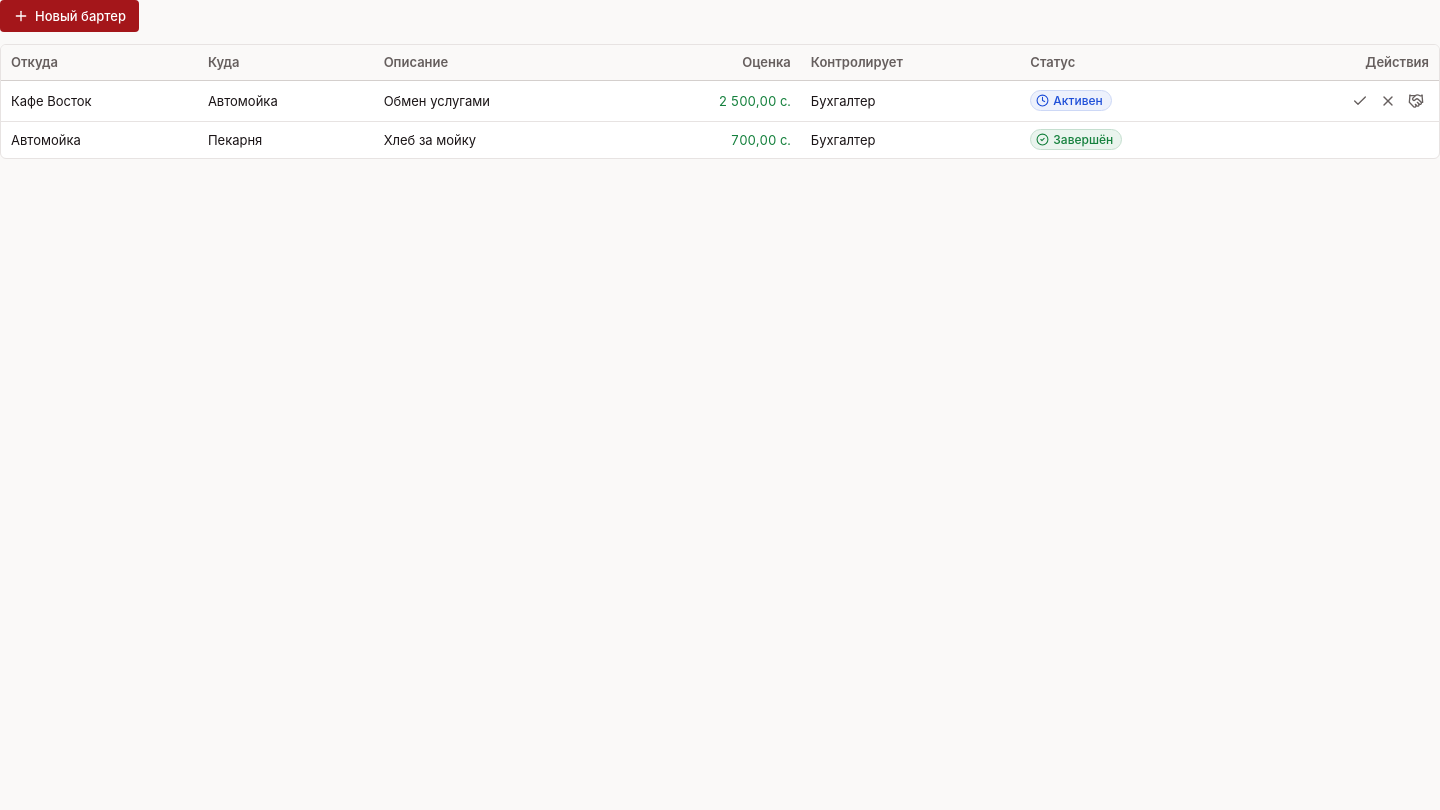
BarterSection › закрытие долга бартером: в списке только долги той же пары, отправляет close-debt
Step 1. Click the button named "Закрыть долг бартером" → (1416, 101), box [1403, 88, 1429, 114]
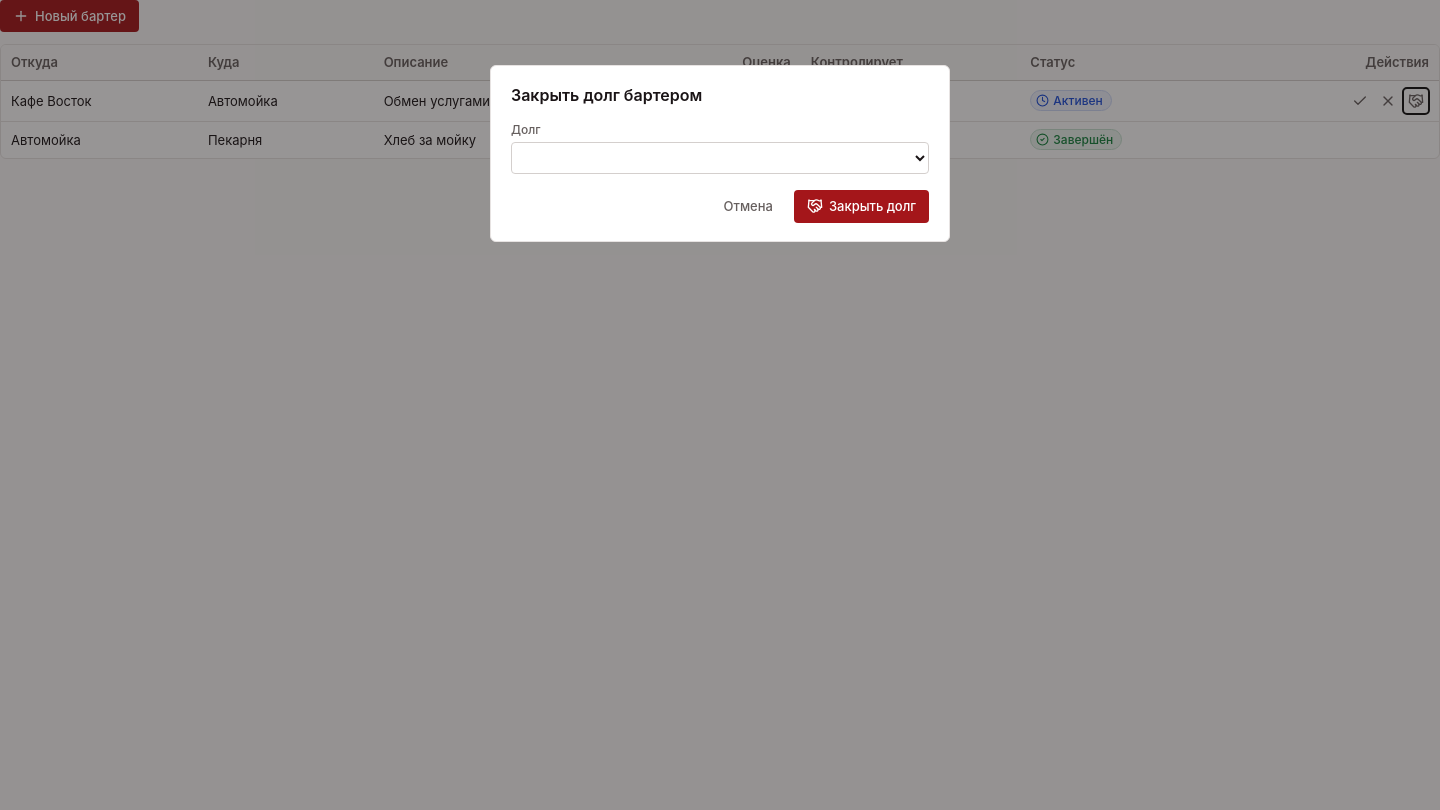
Step 2. Select "Автомойка — Кафе Восток · 300,00 с." in the dropdown labelled "Долг" → (720, 158), box [511, 142, 929, 174]
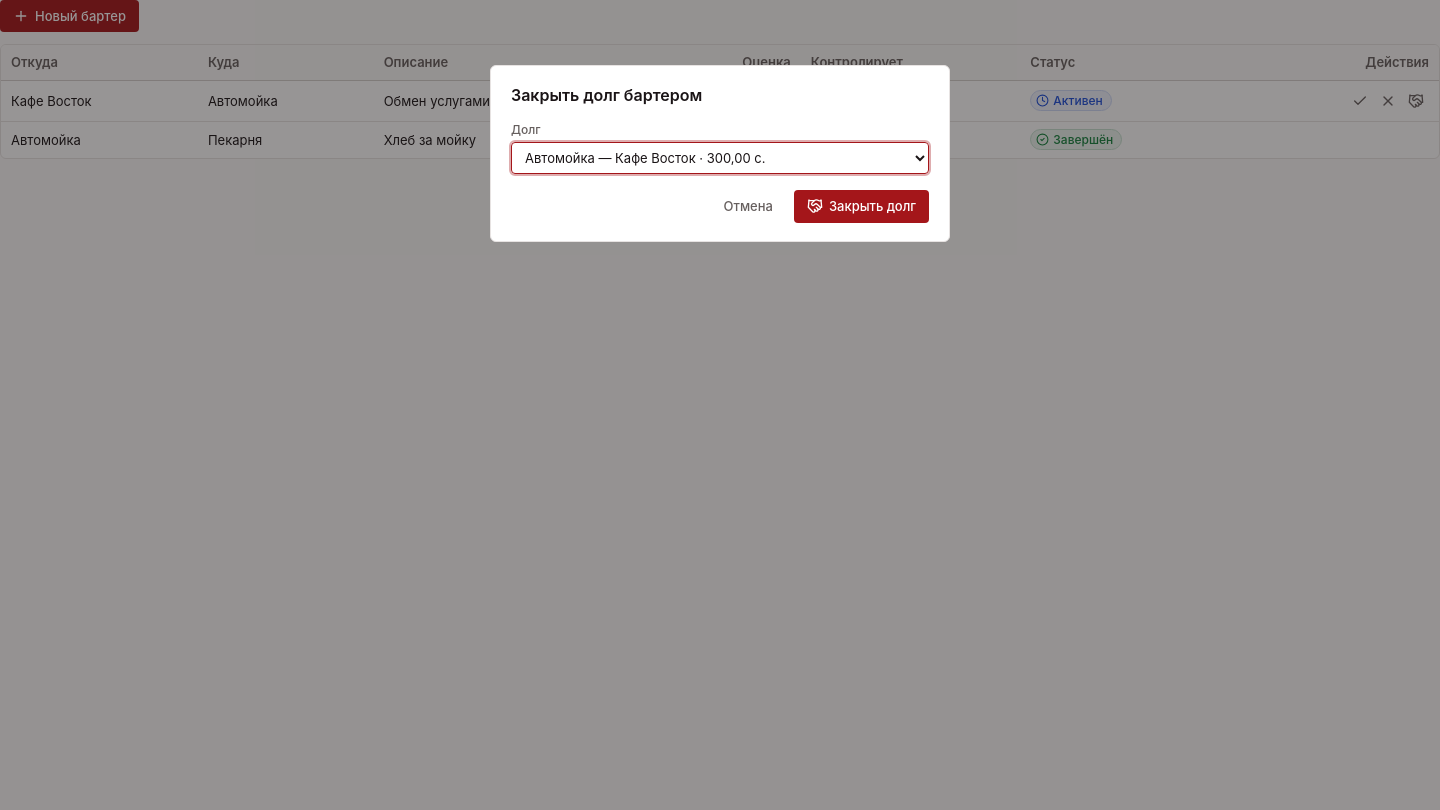
Step 3. Click the button "Закрыть долг" → (861, 206), box [794, 190, 929, 223]
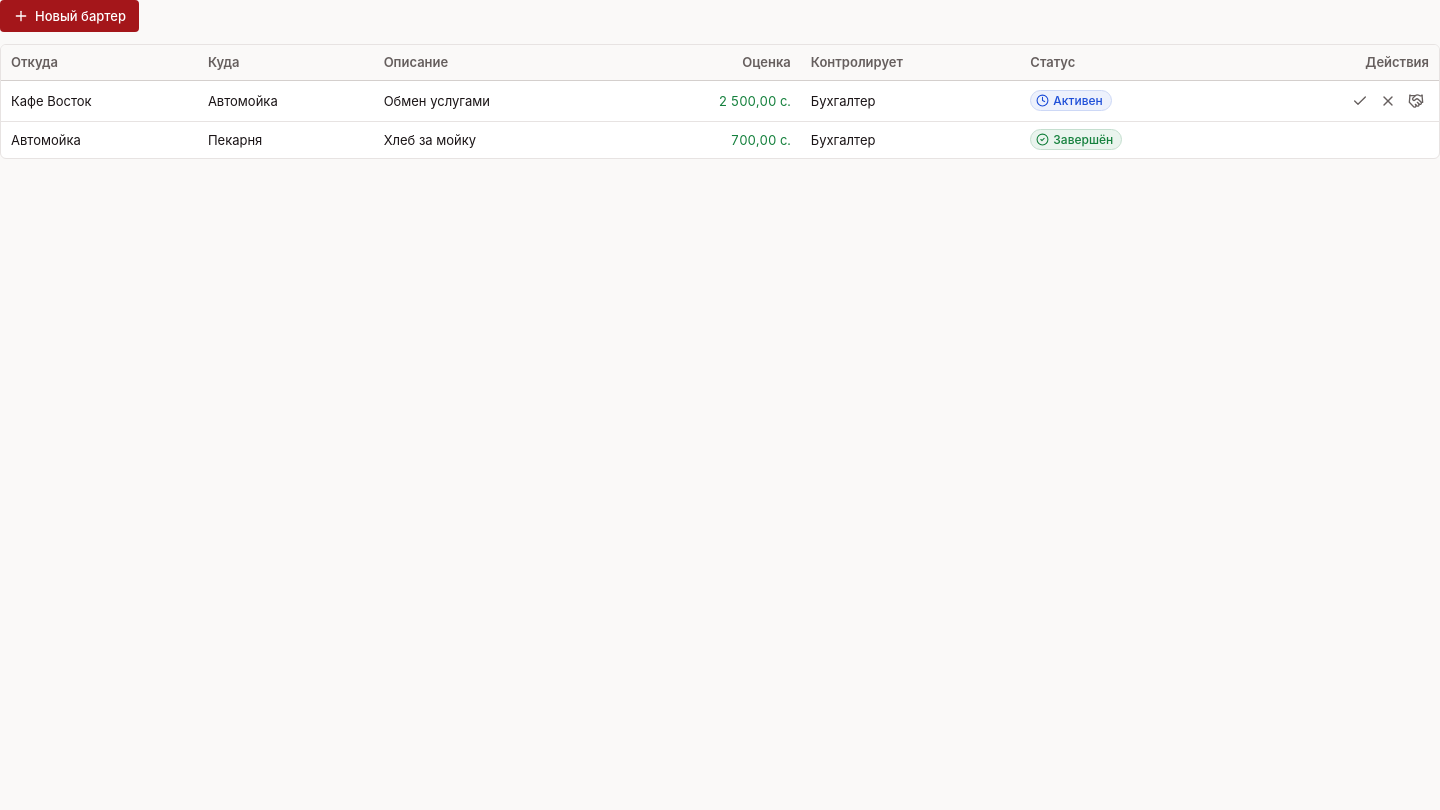
Expected: the dialog is gone
